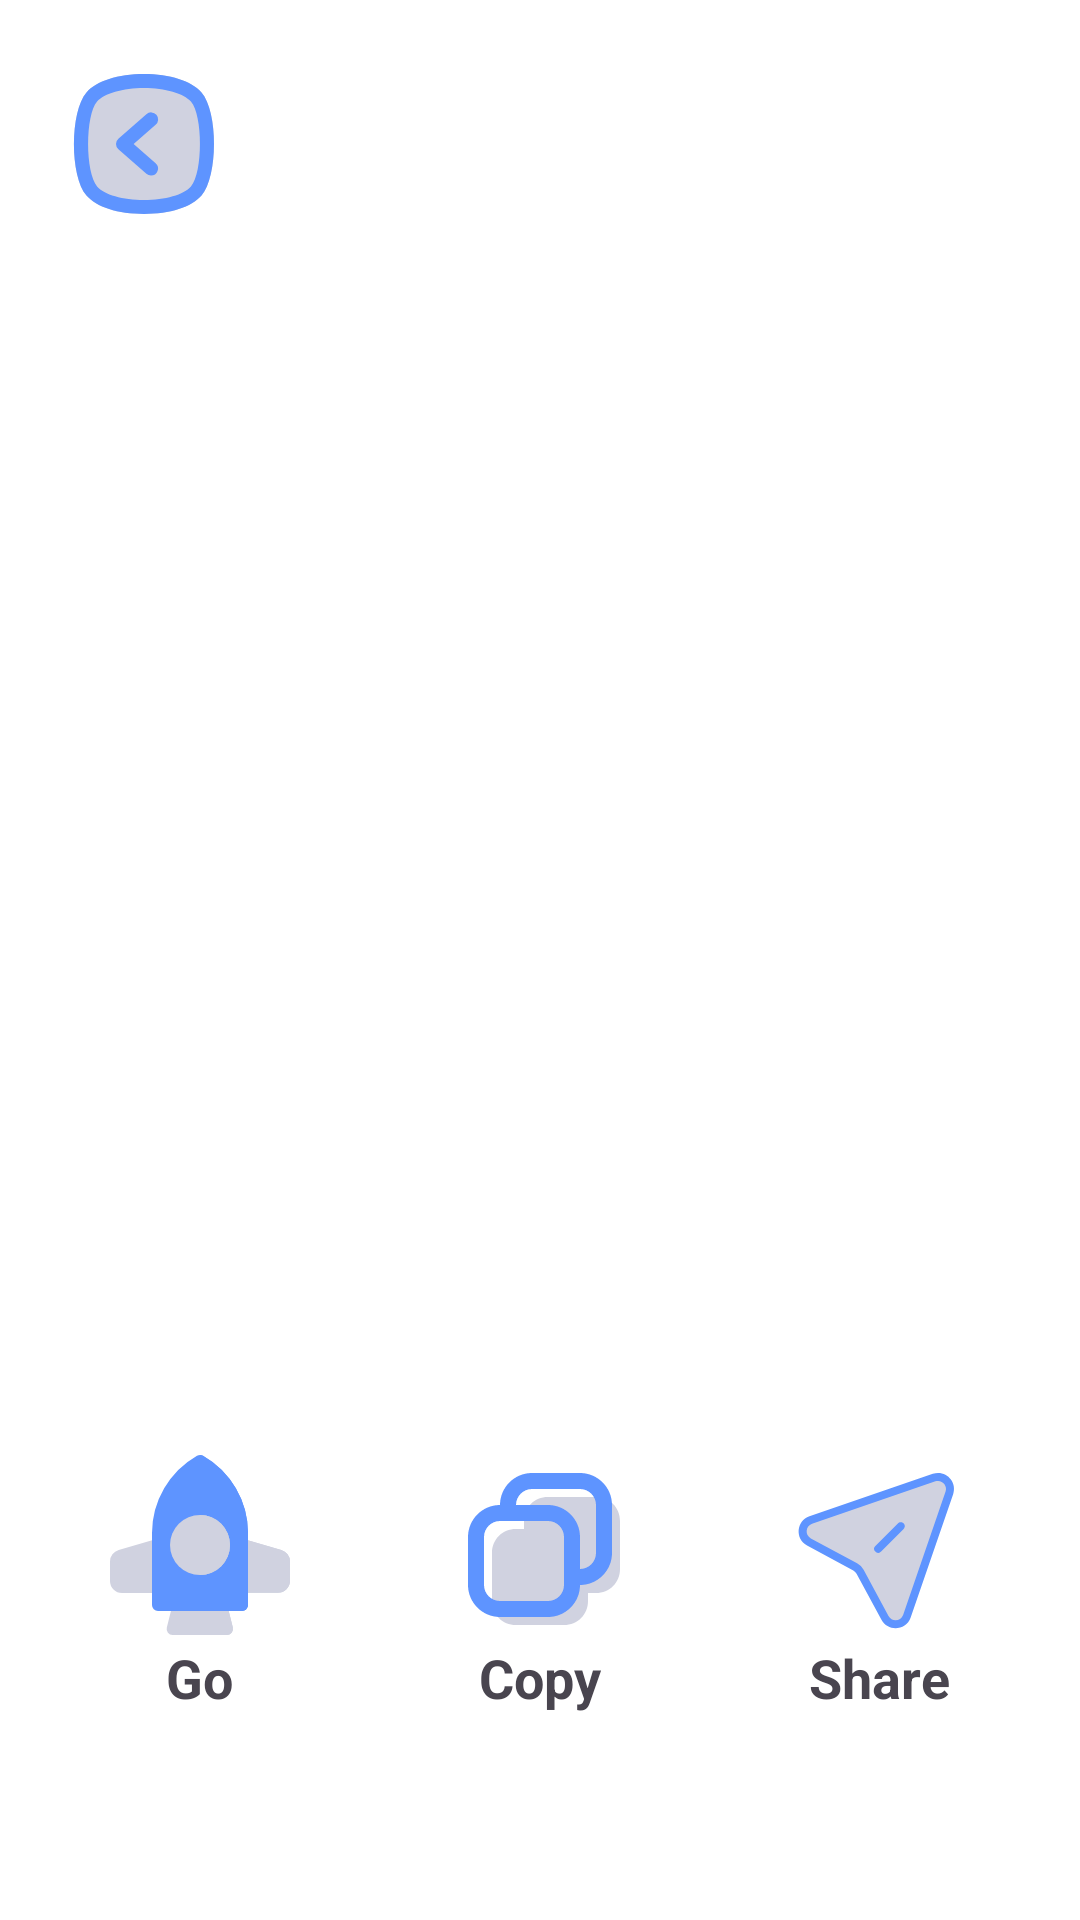

Icons on this 1080x1920 Android screen, each with the point to tap as point (x, y):
back: point (144, 144)
